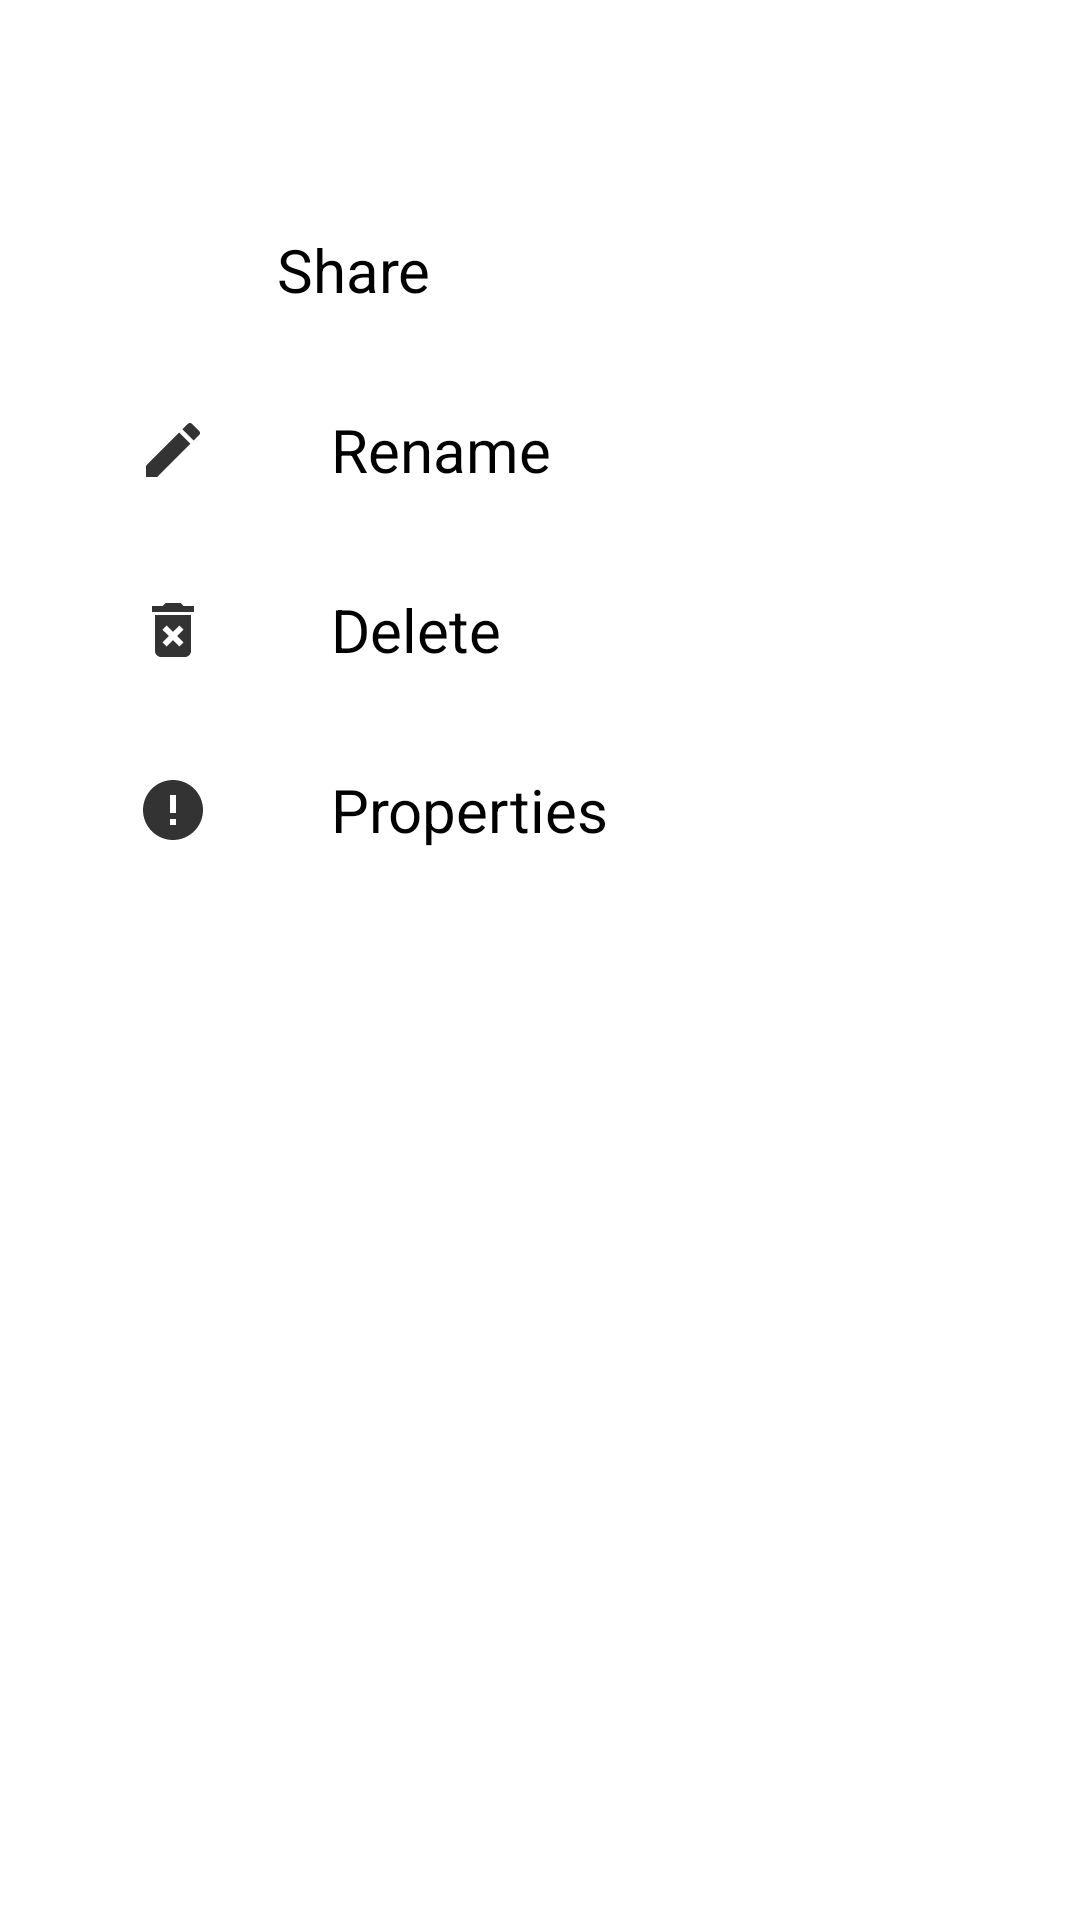

Locate icon controls on the screen. Image size 1080*1920, boxes as box(x1, y1, x2, y2).
error: box(143, 780, 203, 840)
